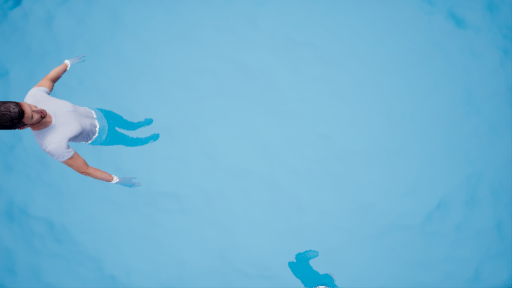person: (1, 62, 182, 192)
